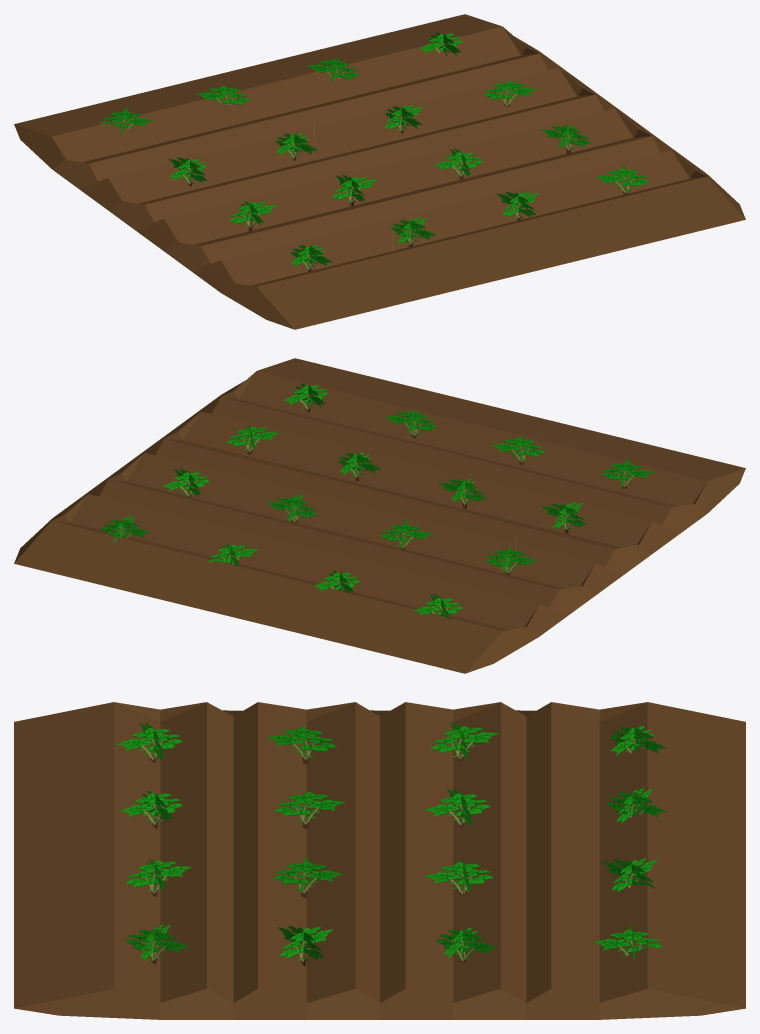
The model's file is potato-stage1-w-Dirt.glb.
3 views of the same model, one above another, from view 1: azimuth 30°, elevation 25°; view 2: azimuth 150°, elevation 25°; view 3: azimuth 270°, elevation 25° (orthographic). The views are drawn at different scales.
Parts seen in each view (by area): view 1: Soil.004, Potatoe_F1; view 2: Soil.004, Potatoe_F1; view 3: Soil.004, Potatoe_F1.
Boxes of the visible parts, x1,y1,x2,y2 form: Soil.004: (14, 14, 745, 329); Potatoe_F1: (100, 32, 648, 271); Soil.004: (14, 358, 745, 673); Potatoe_F1: (101, 384, 654, 620); Soil.004: (14, 702, 745, 1019); Potatoe_F1: (116, 721, 666, 966).
Size of the model in its own units: 2.5 by 0.1414 by 2.5.
Materials: 2 (1 with a texture image).
